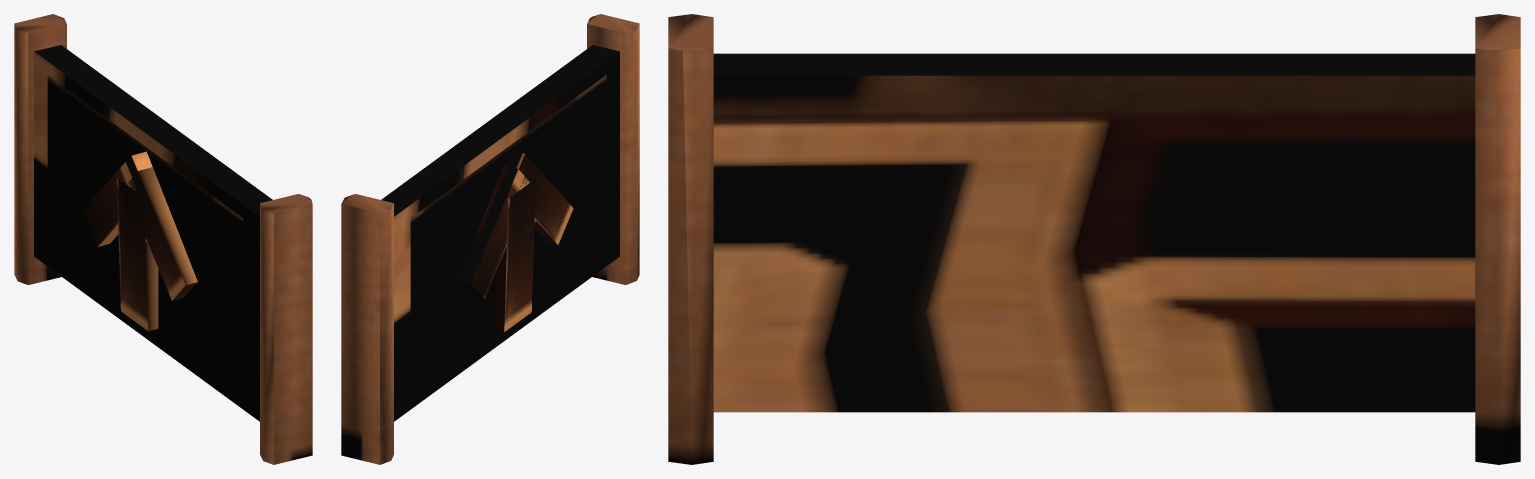
The model's file is upbarrier1.fbx.
3 renders of one model, left to right at view 1: azimuth 30°, elevation 25°; view 2: azimuth 150°, elevation 25°; view 3: azimuth 270°, elevation 25°, orthographic. The views are drawn at different scales.
Visible parts, largest first — view 1: Cube.003; view 2: Cube.003; view 3: Cube.003.
Part boxes in pixels (x1,y1,x2,y2): Cube.003: (14,14,312,464); Cube.003: (341,14,639,464); Cube.003: (668,14,1520,464).
Size of the model in its own units: 62.41 by 265 by 495.
